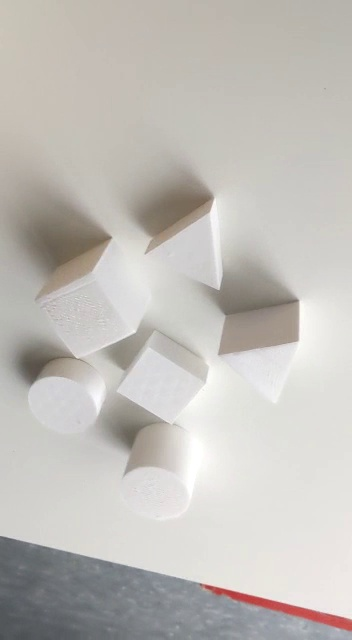Clyinder_short: (23, 356, 108, 437)
Cube: (32, 232, 157, 365)
Cube_short: (112, 331, 211, 430)
Cylinder: (121, 421, 201, 525)
Triangle: (219, 301, 305, 411)
Triangle_short: (142, 196, 225, 298)
